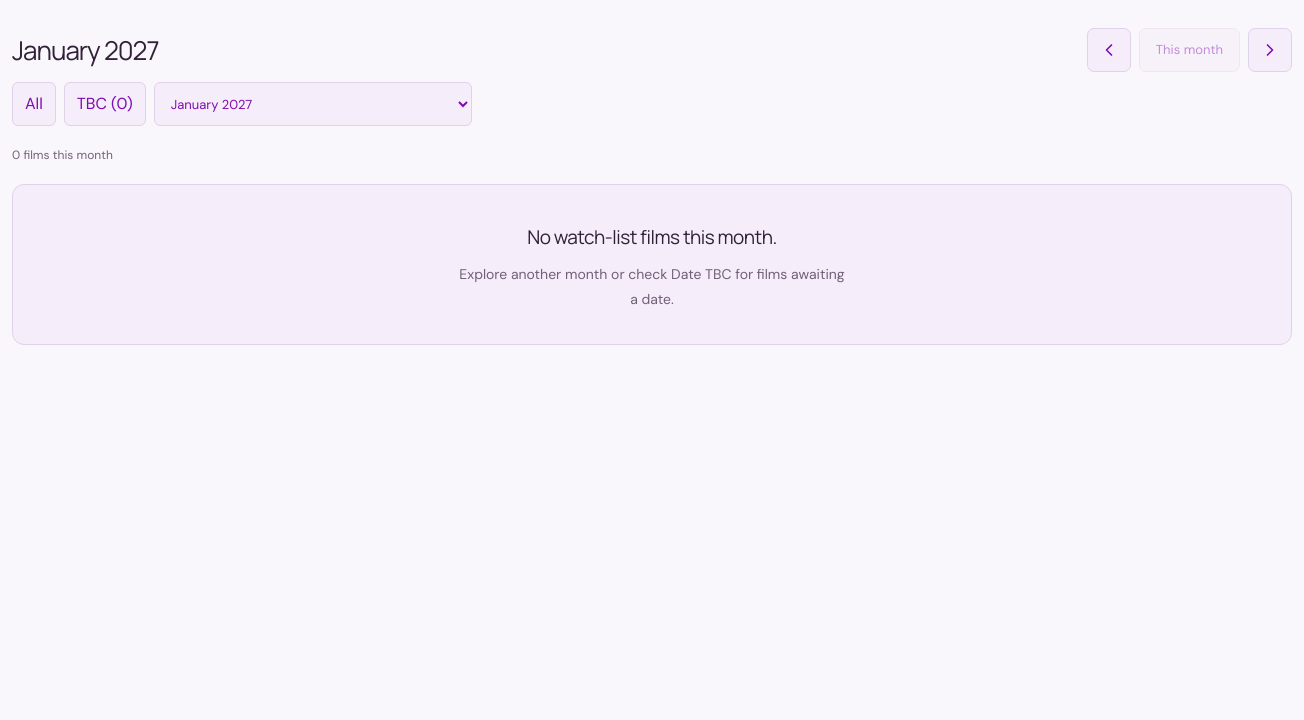
Test: uses the previous UK month across the year boundary
The image size is (1304, 720).
Click the button "All" at point(34, 104), box [12,82,56,126]
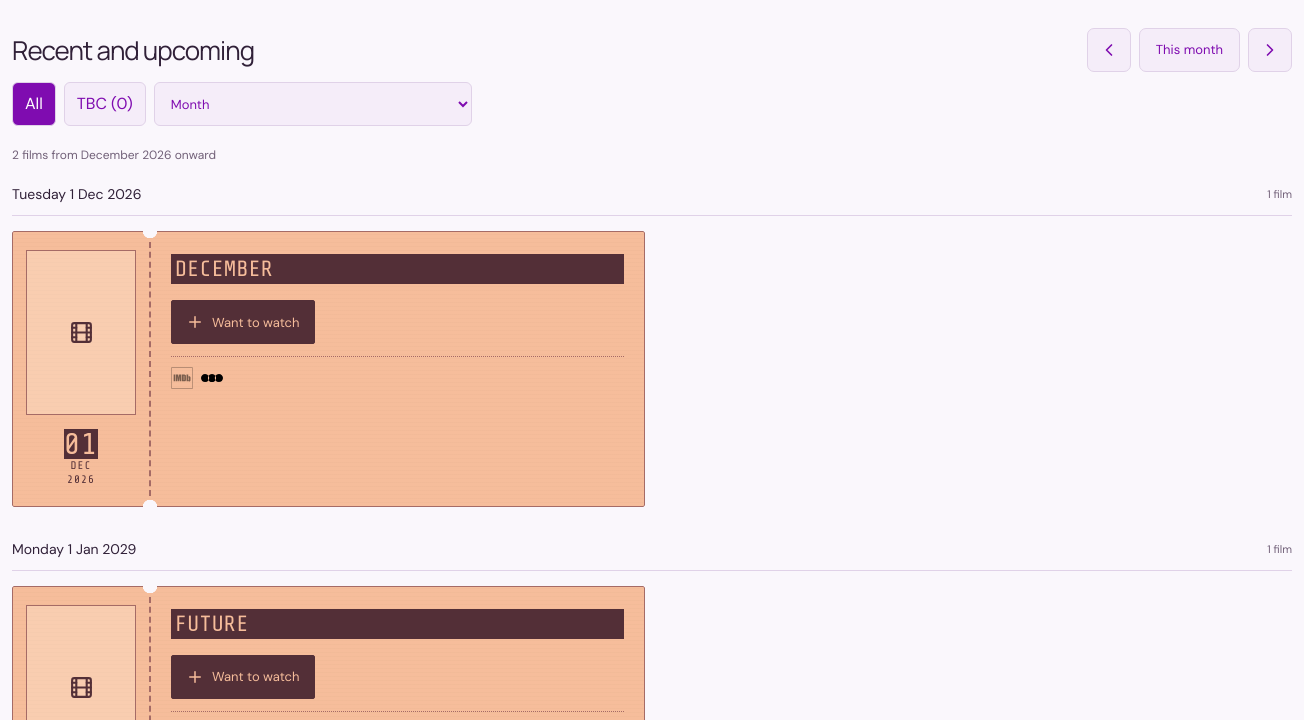
Result: the message shows "from December 2026 onward" at [52,147,216,163]
